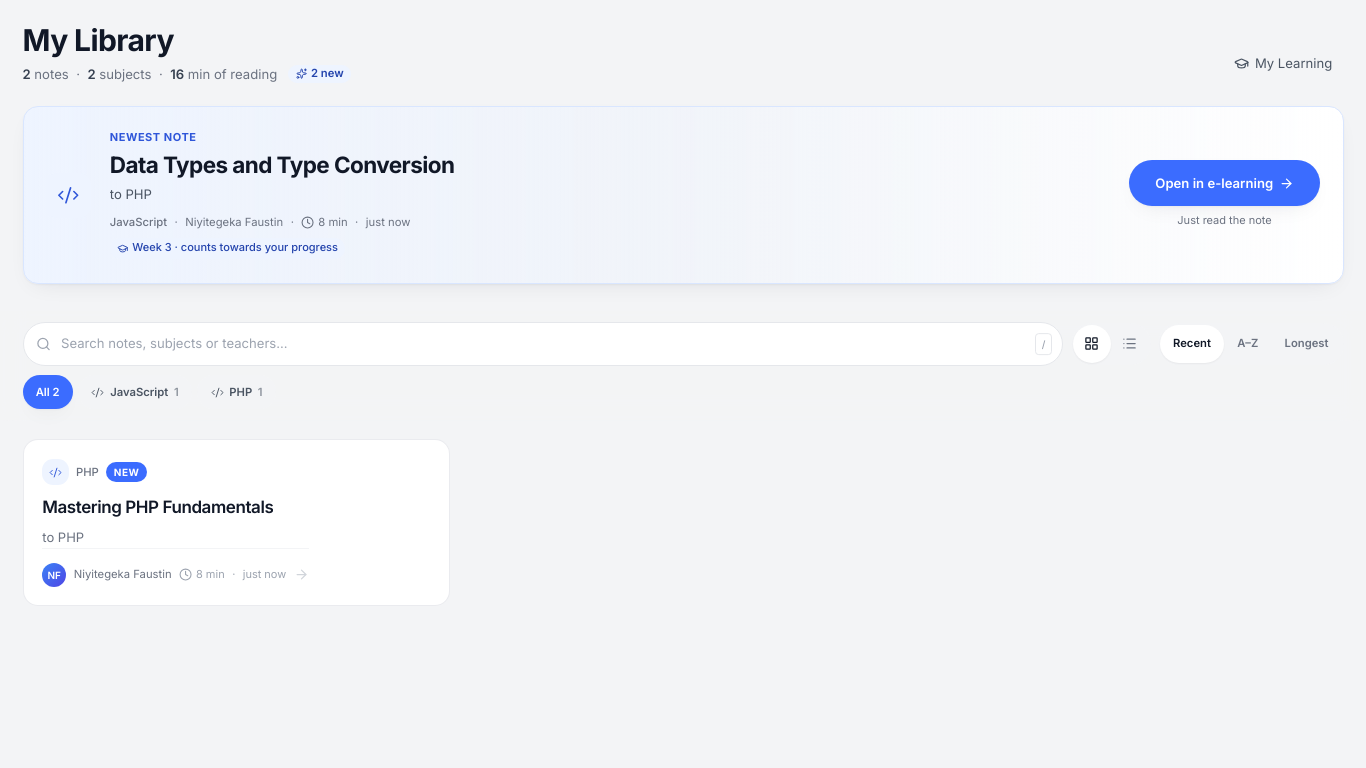
My Library — routing a student to where the reading counts › names each note's subject and filters by it
Expected: the heading "Mastering PHP Fundamentals" is shown, [42,496,273,520]
Expected: the text "JavaScript" is shown, [110,215,167,230]
Step 1. Click the button "PHP 1" → (237, 392), box [197,375,276,409]
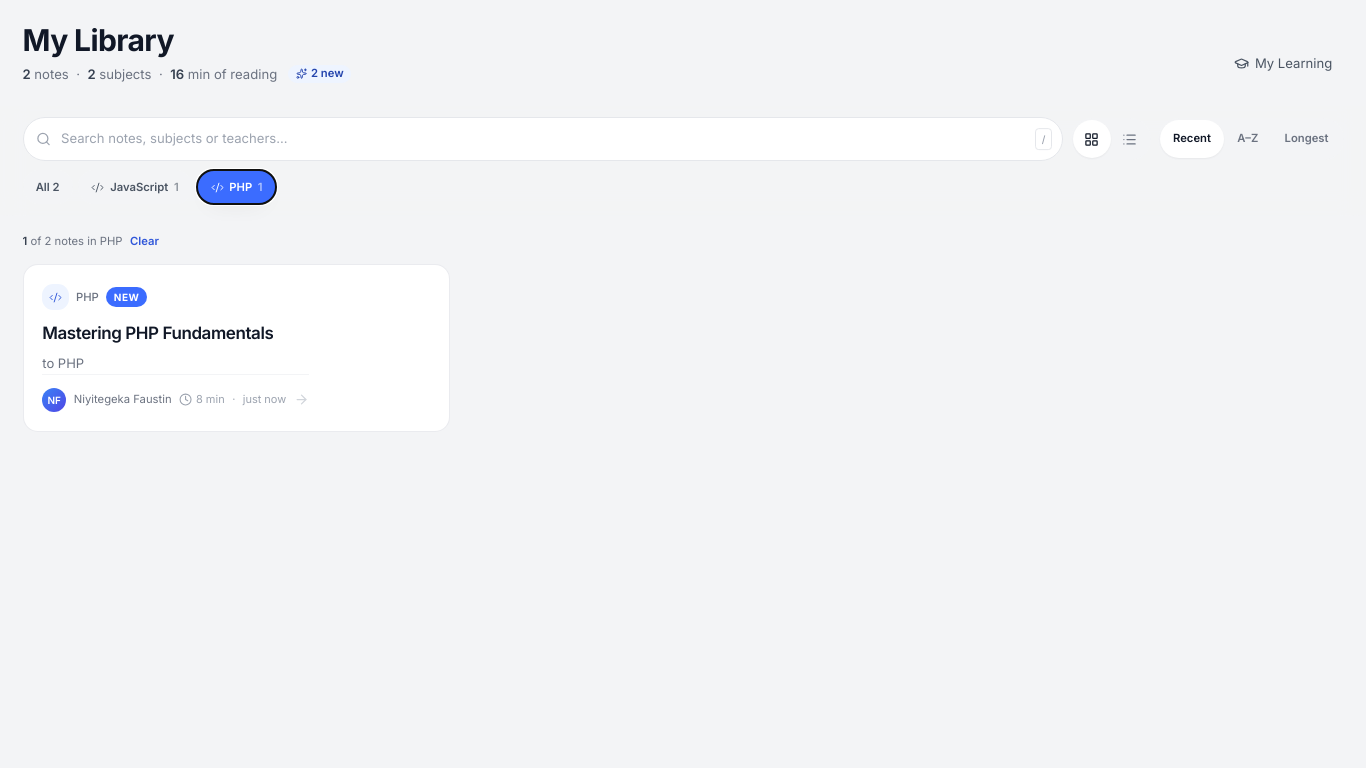
Expected: the heading "Mastering PHP Fundamentals" is shown, [42,322,273,345]
Result: the button "Data Types and Type Conversion" is gone
